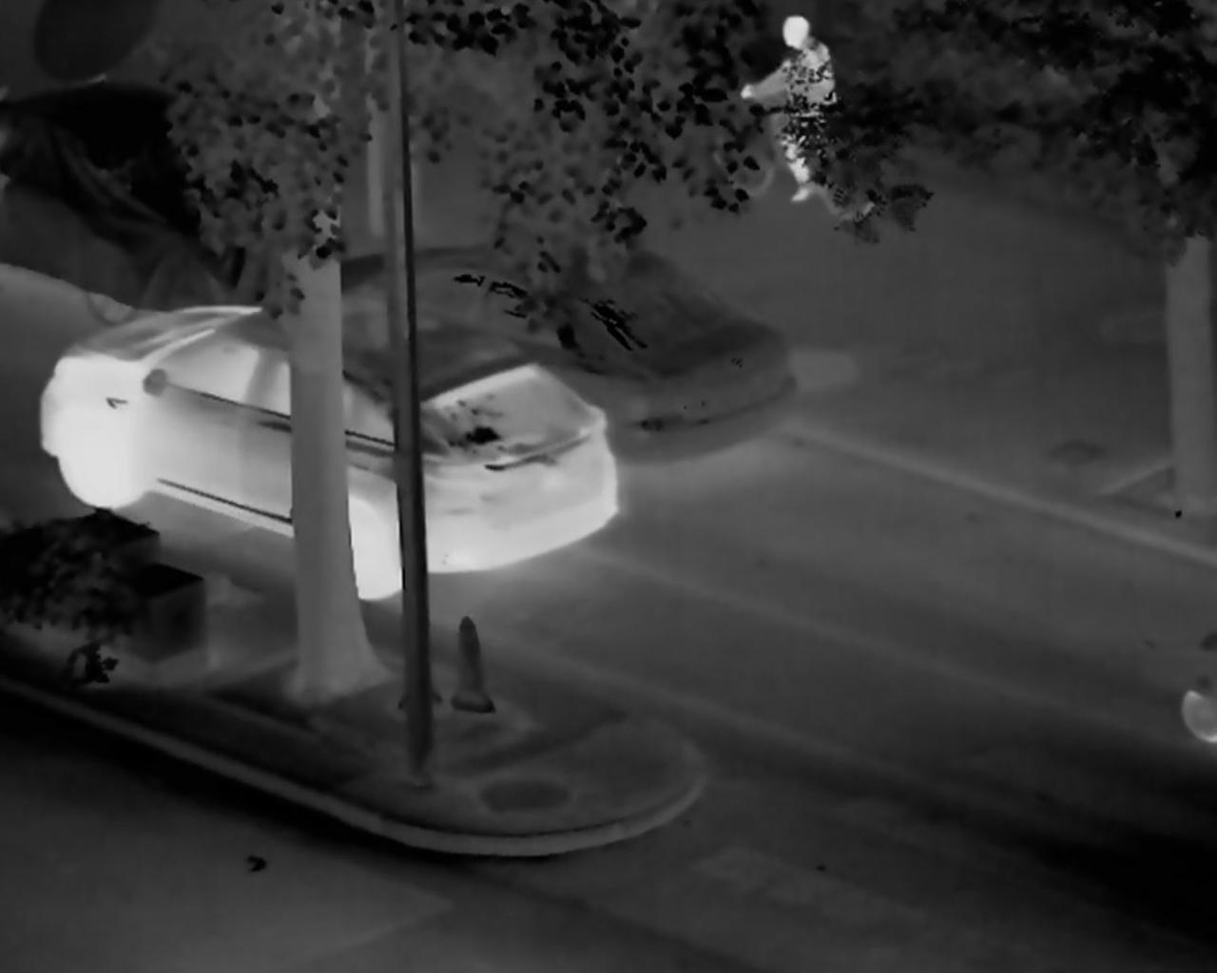person: (731, 16, 841, 196)
